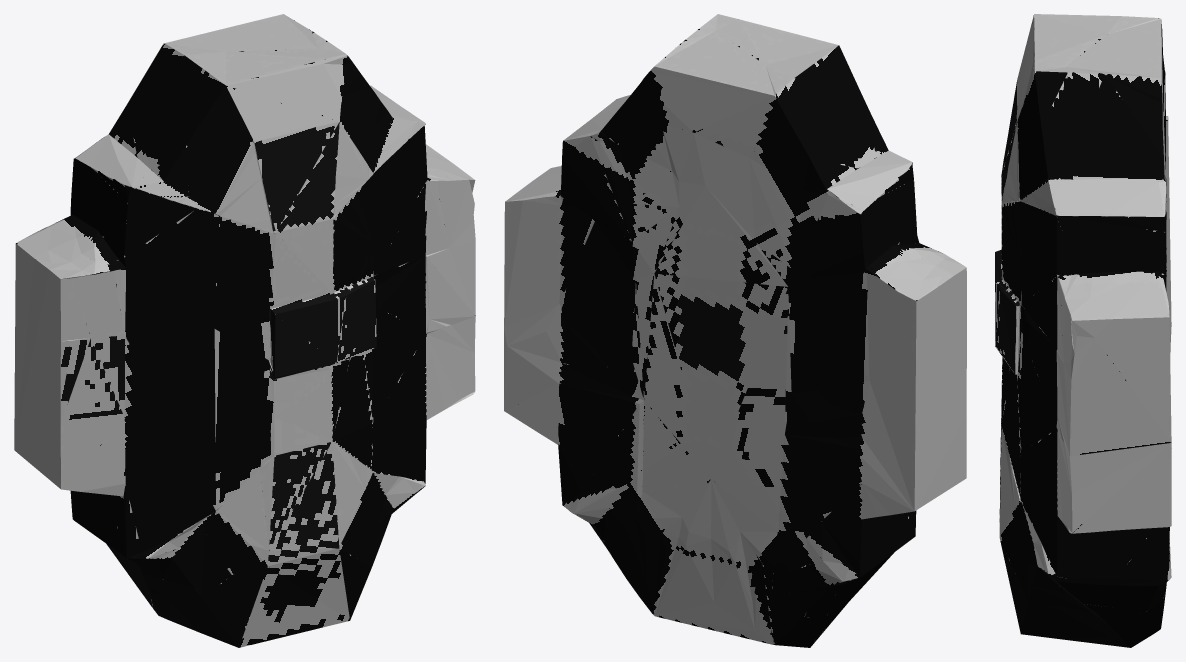
3 views of the same model, side by side, from view 1: azimuth 30°, elevation 25°; view 2: azimuth 150°, elevation 25°; view 3: azimuth 270°, elevation 25° (orthographic).
Parts seen in each view (by area): view 1: OBJ0a5; view 2: OBJ0a5; view 3: OBJ0a5.
Part boxes in pixels (x1,y1,x2,y2): OBJ0a5: (14, 14, 475, 647); OBJ0a5: (504, 14, 966, 647); OBJ0a5: (995, 14, 1171, 647).
Size of the model in its own units: 0.1054 by 0.1367 by 0.0387.
Materials: 1 (1 with a texture image).
